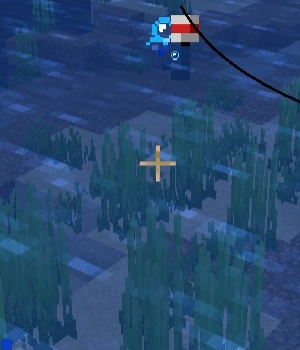up: (160, 12, 205, 85)
